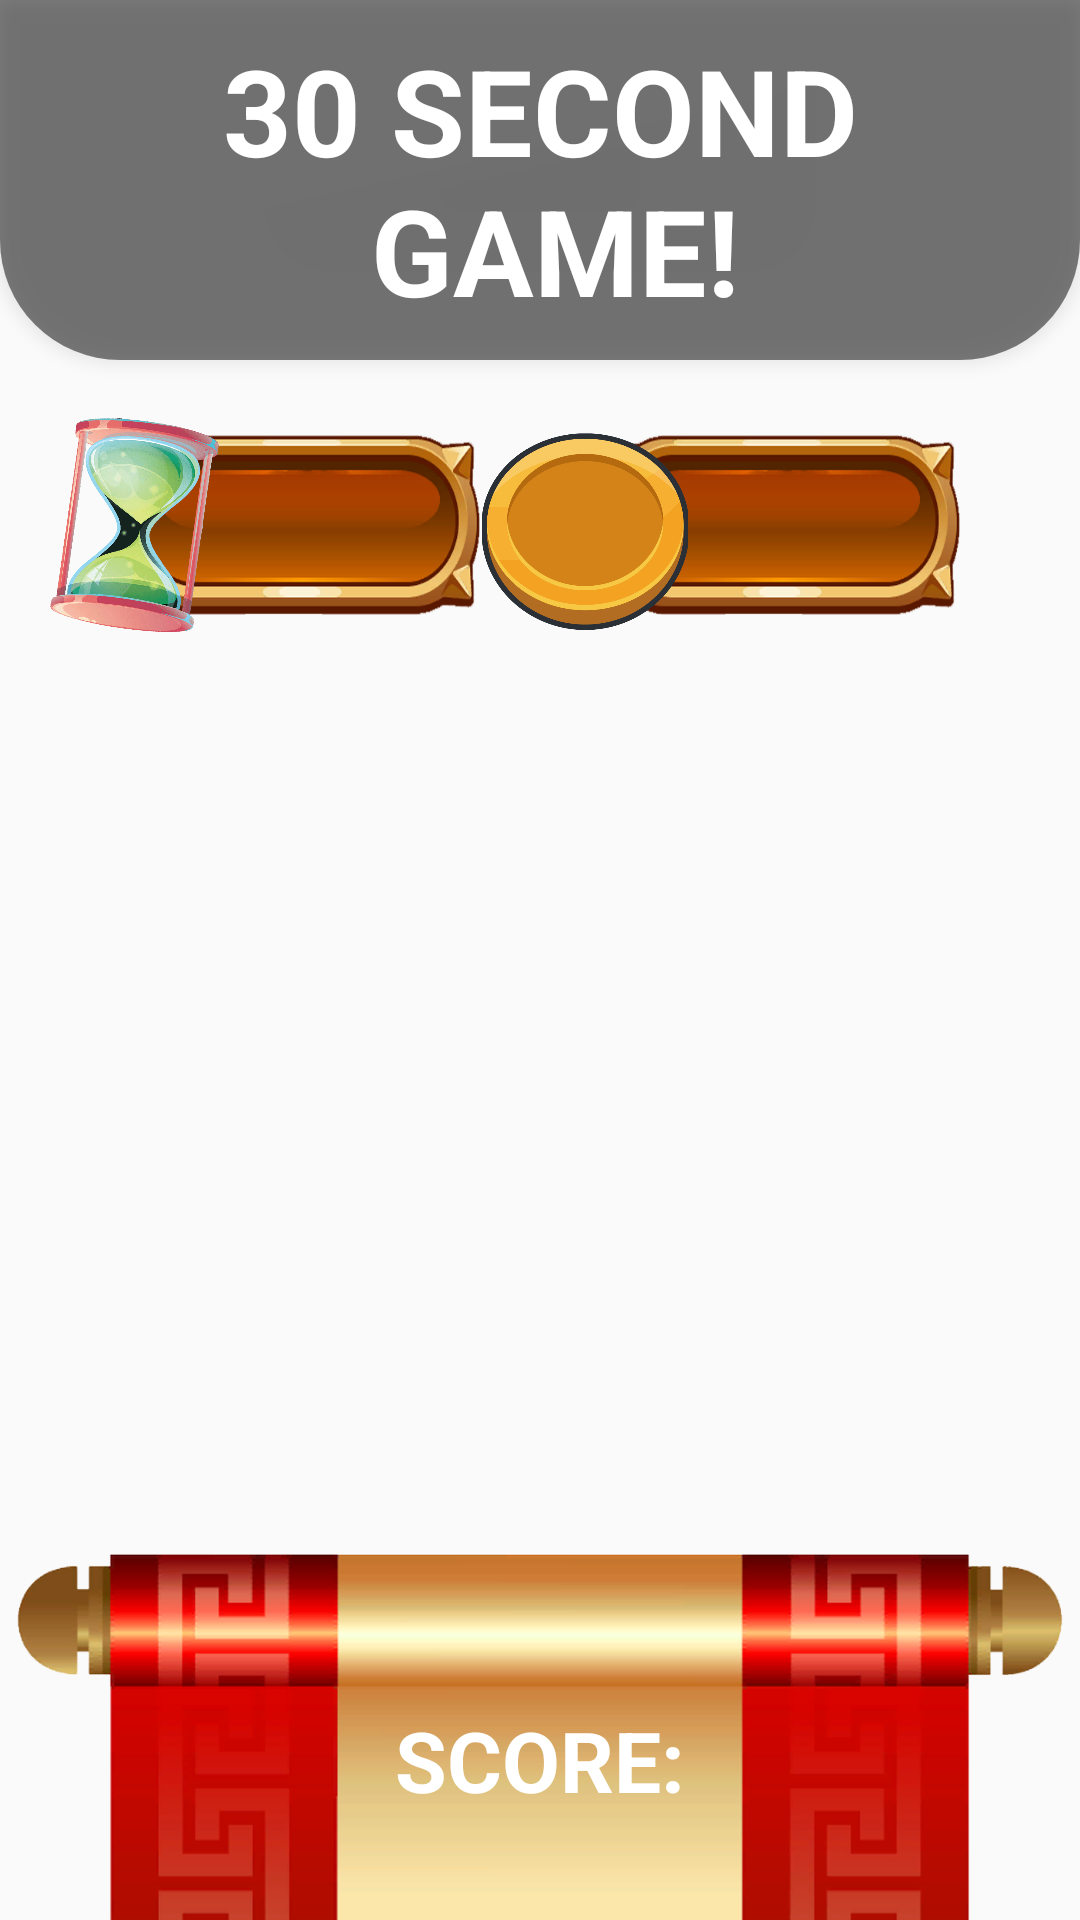

Locate icon controls on the screen. Image size 1080×1920, boxes as bbox(x1, y1, x2, y2).
coin: bbox(482, 433, 690, 630)
